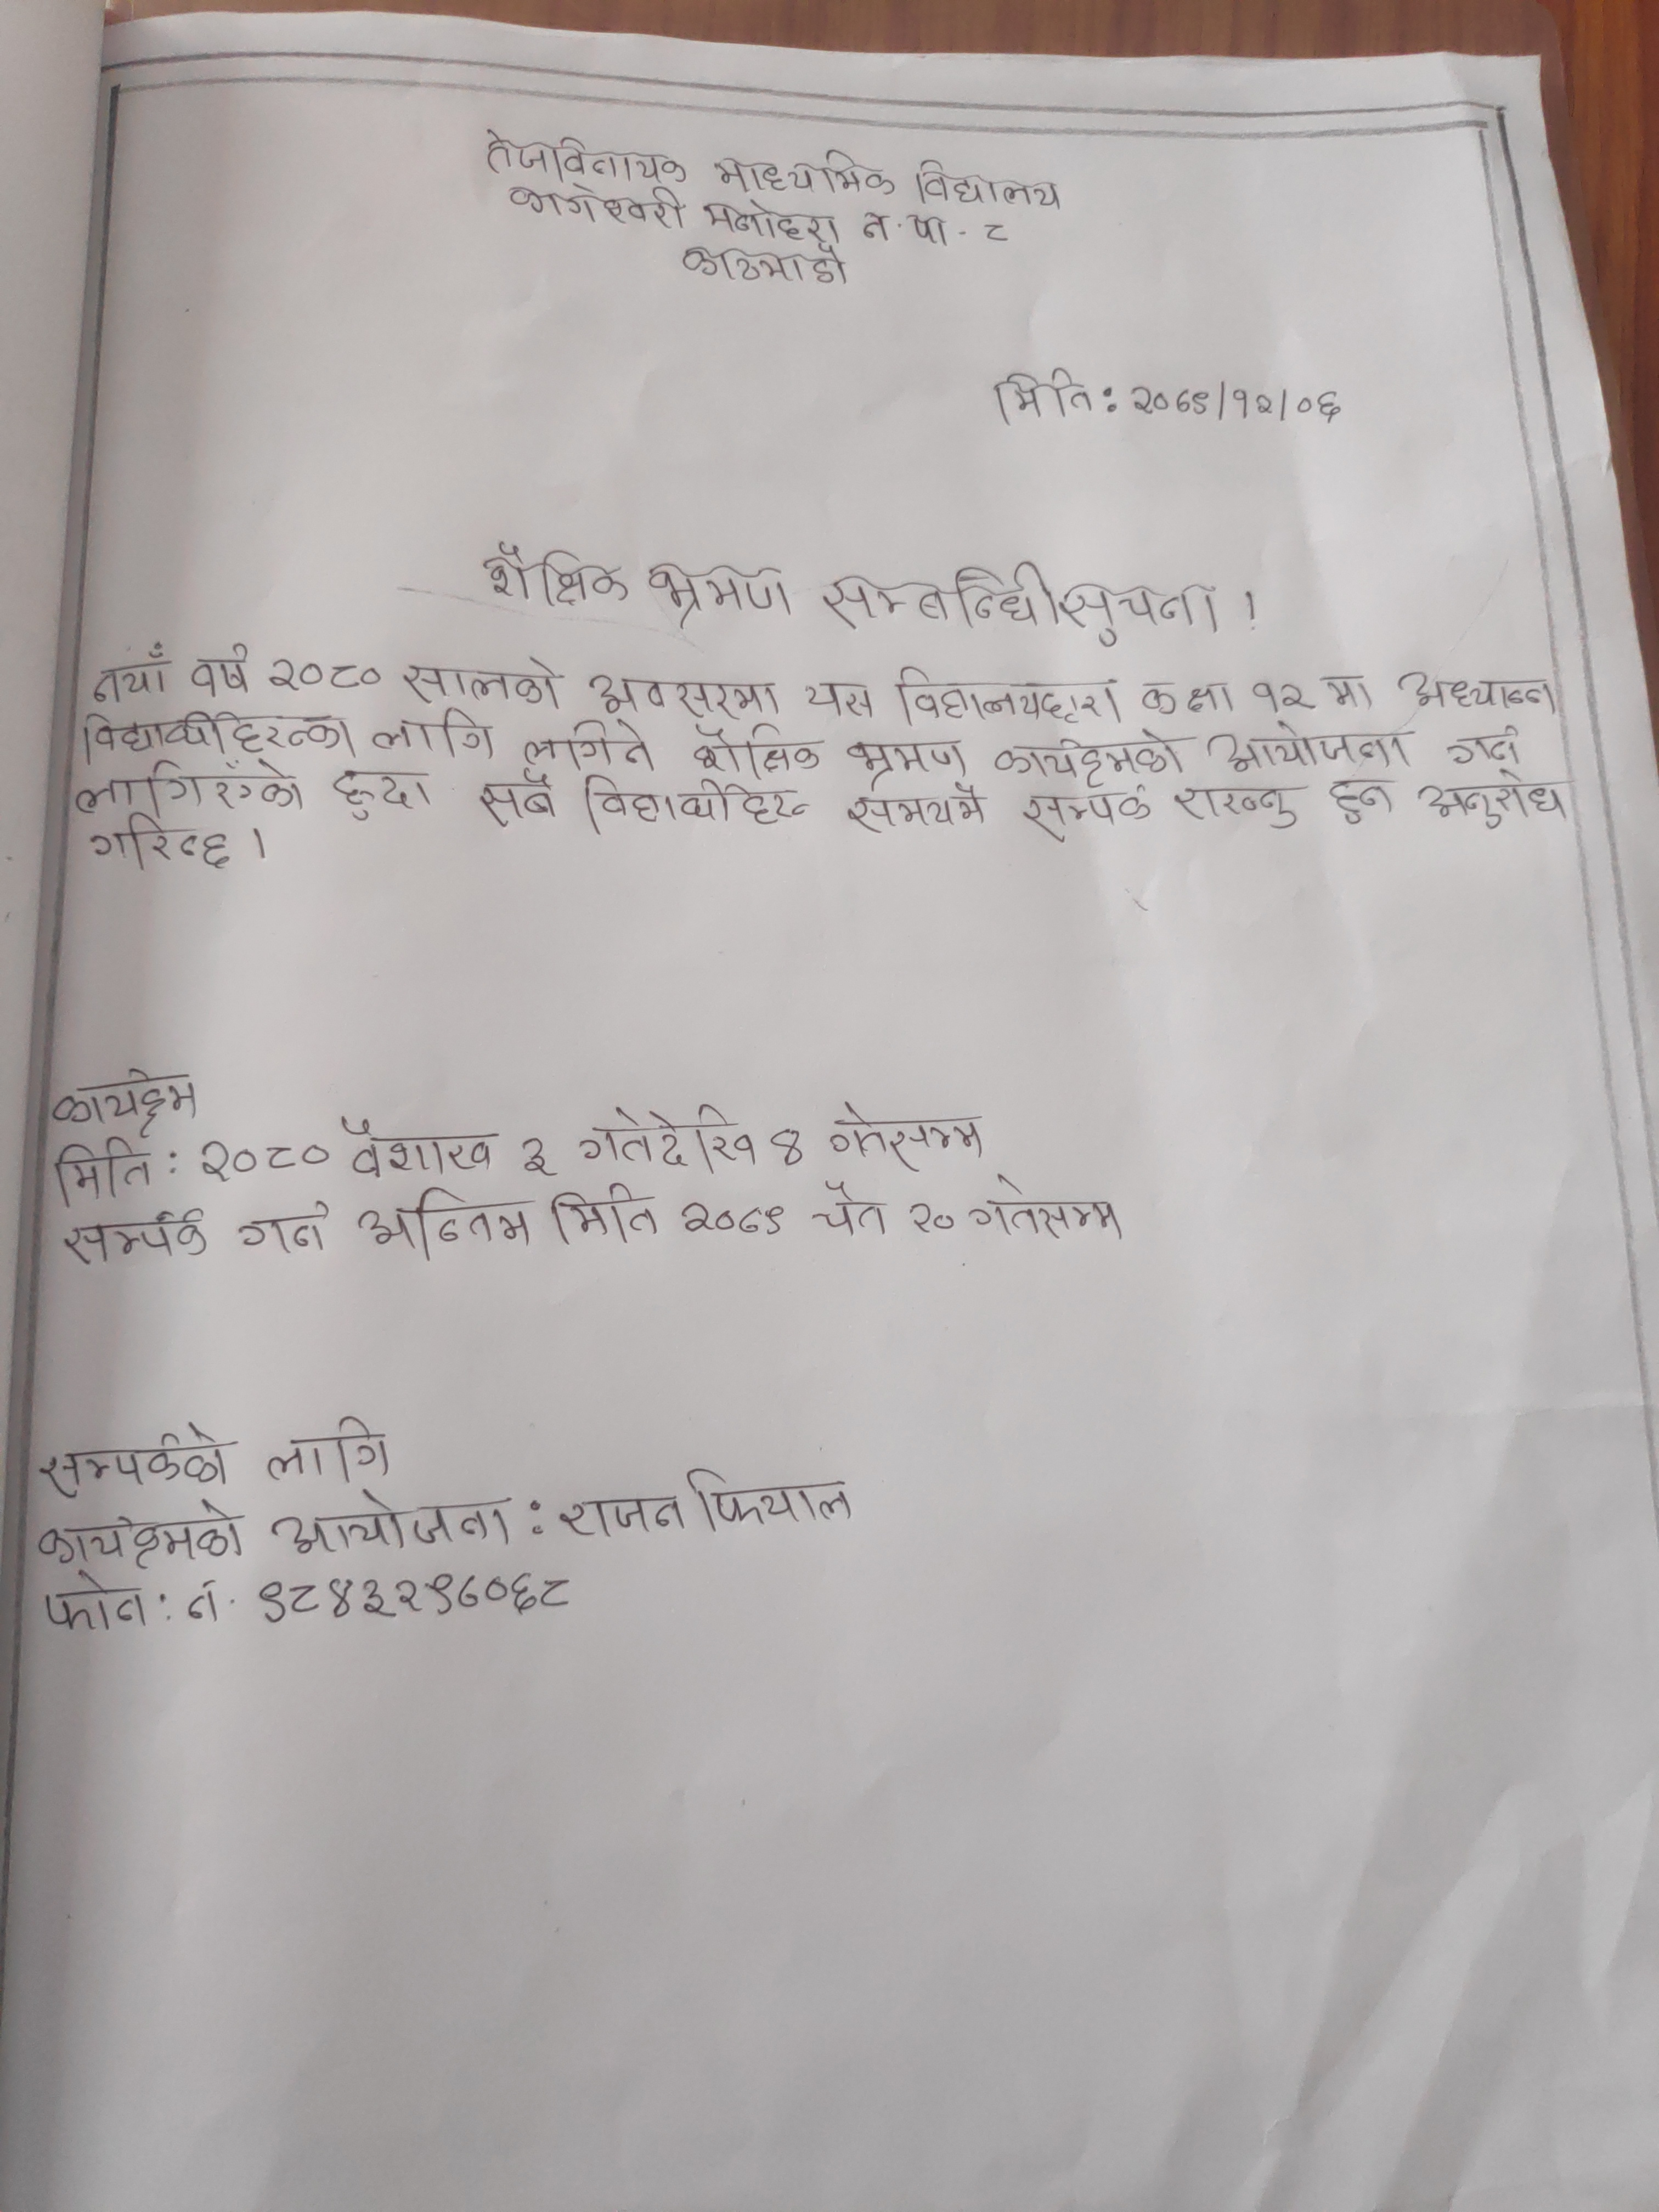text: (251, 1569, 586, 1623), (821, 564, 1061, 639), (272, 1491, 523, 1554), (31, 1501, 251, 1573), (892, 662, 1121, 730), (78, 704, 354, 759), (579, 770, 810, 834), (31, 1420, 235, 1493), (357, 1184, 540, 1261), (70, 758, 312, 813), (476, 124, 688, 185), (824, 1097, 988, 1176), (580, 1104, 760, 1174), (1056, 575, 1227, 648), (586, 660, 788, 721), (474, 540, 633, 613), (688, 1463, 854, 1529), (49, 1064, 202, 1136), (1204, 719, 1419, 770), (988, 726, 1183, 780), (1127, 380, 1349, 427), (645, 559, 796, 627), (711, 146, 897, 200), (967, 1181, 1126, 1244), (84, 813, 235, 878), (338, 1120, 502, 1177), (399, 651, 561, 709), (673, 237, 849, 287), (58, 1204, 207, 1263), (1019, 784, 1164, 845), (504, 183, 690, 230), (263, 1414, 396, 1480), (1417, 772, 1568, 829), (40, 1137, 159, 1211), (1396, 671, 1558, 721), (1164, 773, 1298, 834), (540, 1188, 666, 1251), (40, 1566, 150, 1637), (518, 716, 655, 772), (913, 158, 1063, 209), (558, 1482, 685, 1541), (690, 719, 824, 775), (701, 190, 849, 239), (329, 758, 436, 822), (988, 364, 1100, 423), (197, 1134, 331, 1183), (234, 1195, 333, 1259), (368, 712, 500, 759), (843, 737, 969, 784), (805, 1177, 894, 1244), (476, 765, 561, 831), (845, 794, 988, 833), (674, 1197, 786, 1245), (261, 655, 382, 698), (92, 643, 176, 704), (1317, 773, 1396, 831), (1138, 676, 1241, 719), (1436, 730, 1541, 770), (856, 204, 951, 247), (803, 674, 884, 721), (192, 643, 247, 700), (1251, 676, 1321, 714), (765, 1116, 812, 1172), (181, 1578, 225, 1634), (906, 1195, 955, 1244), (514, 1129, 559, 1176), (1324, 674, 1373, 712)
